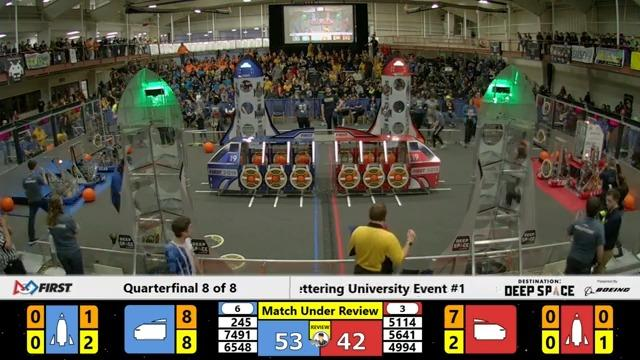robot: (61, 139, 106, 187), (568, 153, 613, 198), (537, 137, 574, 183), (45, 158, 86, 198), (570, 117, 604, 163), (96, 133, 126, 172)
